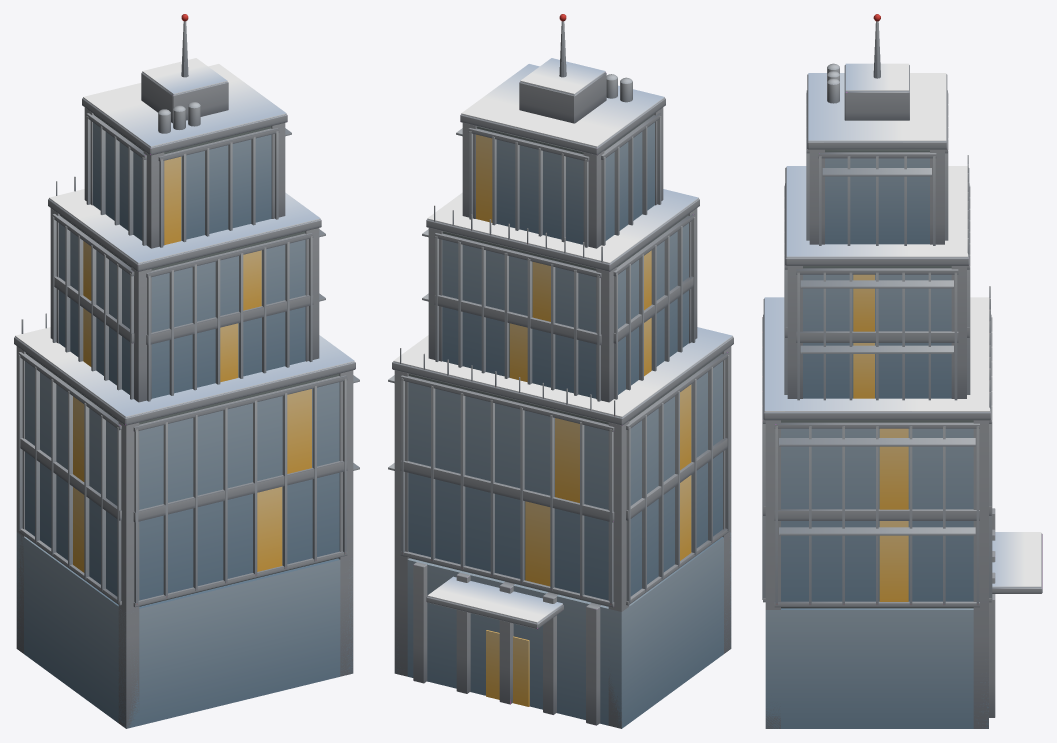
The model's file is ck_tower_stepped.fbx.
3 renders of one model, left to right at view 1: azimuth 30°, elevation 25°; view 2: azimuth 150°, elevation 25°; view 3: azimuth 270°, elevation 25°, orthographic.
Visible parts, largest first — view 1: ck_tower_stepped; view 2: ck_tower_stepped; view 3: ck_tower_stepped.
Part boxes in pixels (bbox=[...]): ck_tower_stepped: bbox=[14, 14, 359, 728]; ck_tower_stepped: bbox=[388, 14, 733, 728]; ck_tower_stepped: bbox=[762, 14, 1042, 728].
Bounding box in the file's own units: 2358 × 6000 × 2313.
